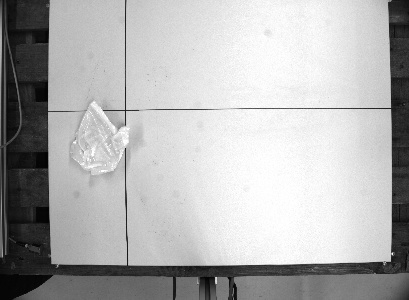t3: (65, 98, 134, 181)
